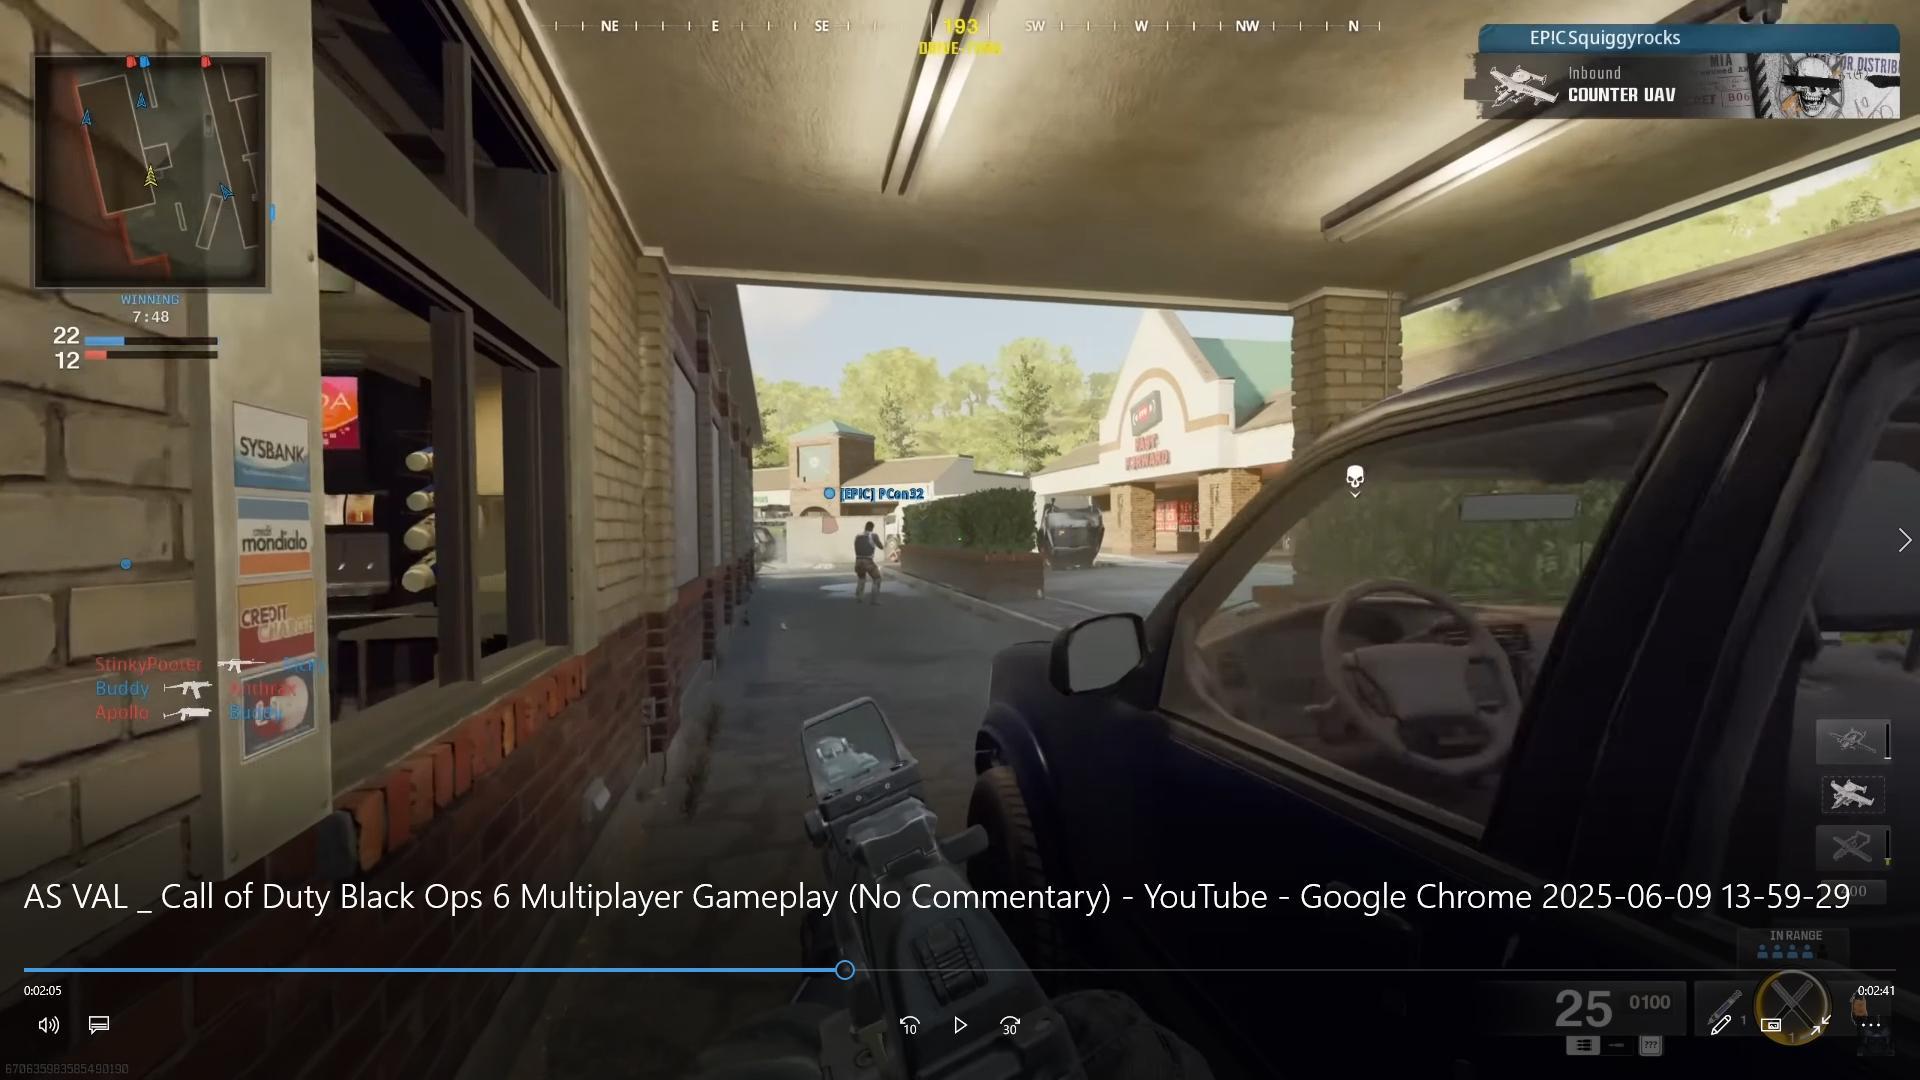Enemy: (847, 518, 886, 600)
